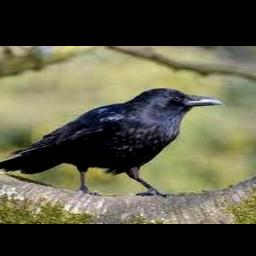Crow: (0, 88, 224, 197)
